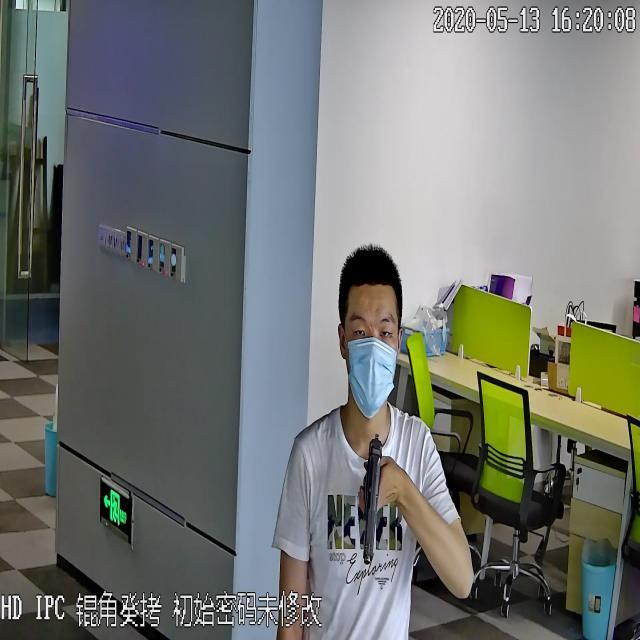gun: (362, 426, 384, 570)
